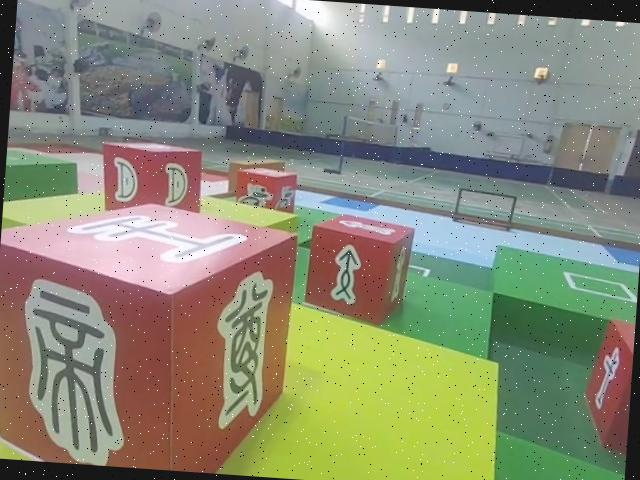R1: (229, 161, 299, 222)
R2 Fake: (0, 189, 301, 478)
R2 Real: (301, 206, 417, 328), (97, 135, 205, 228), (575, 311, 636, 463)
